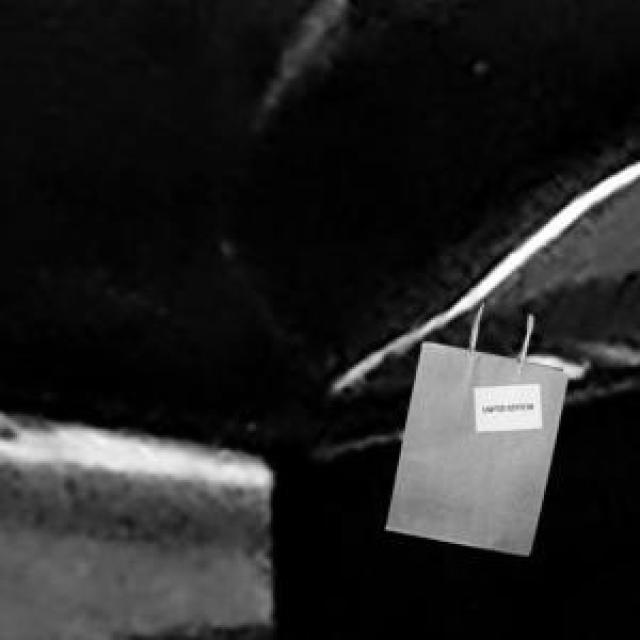paper: (382, 305, 565, 550)
